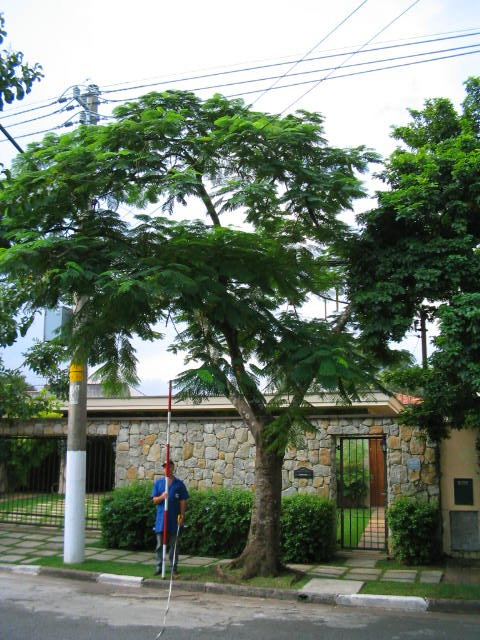crown: (4, 90, 407, 434)
stem: (224, 435, 302, 582)
stick: (157, 380, 177, 579)
tree: (1, 90, 408, 584)
